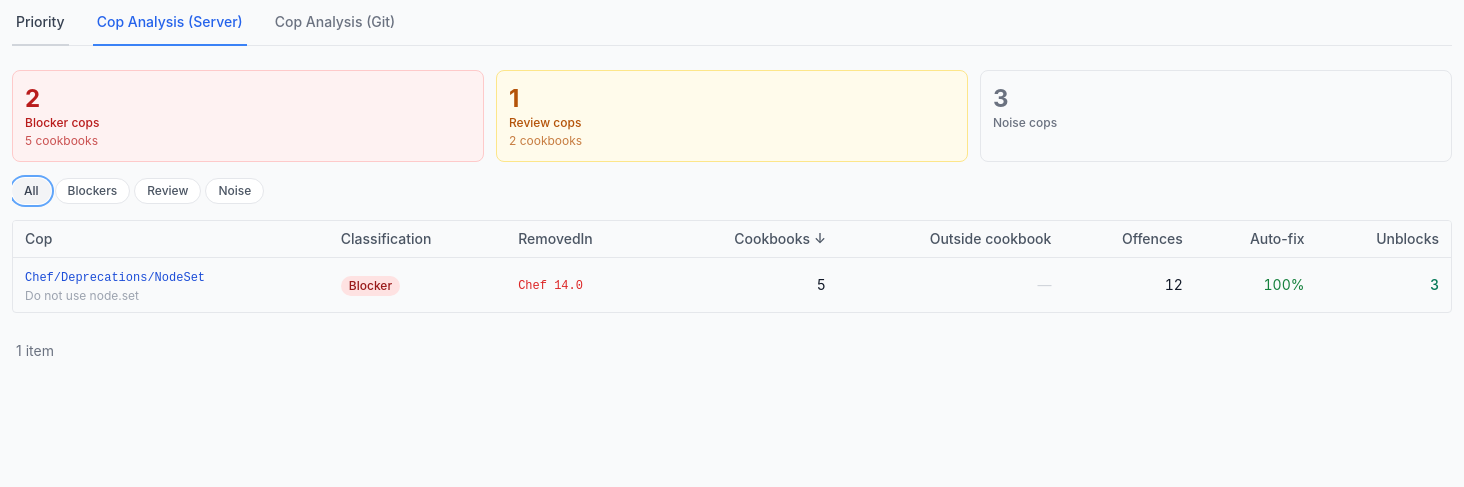
RemediationPage tabs › switching back to Priority tab shows priority content
Expected: the button "Chef/Deprecations/NodeSet" is shown, [25, 270, 205, 286]
Click the button "Priority". click: (40, 29)
box: [12, 12, 69, 46]
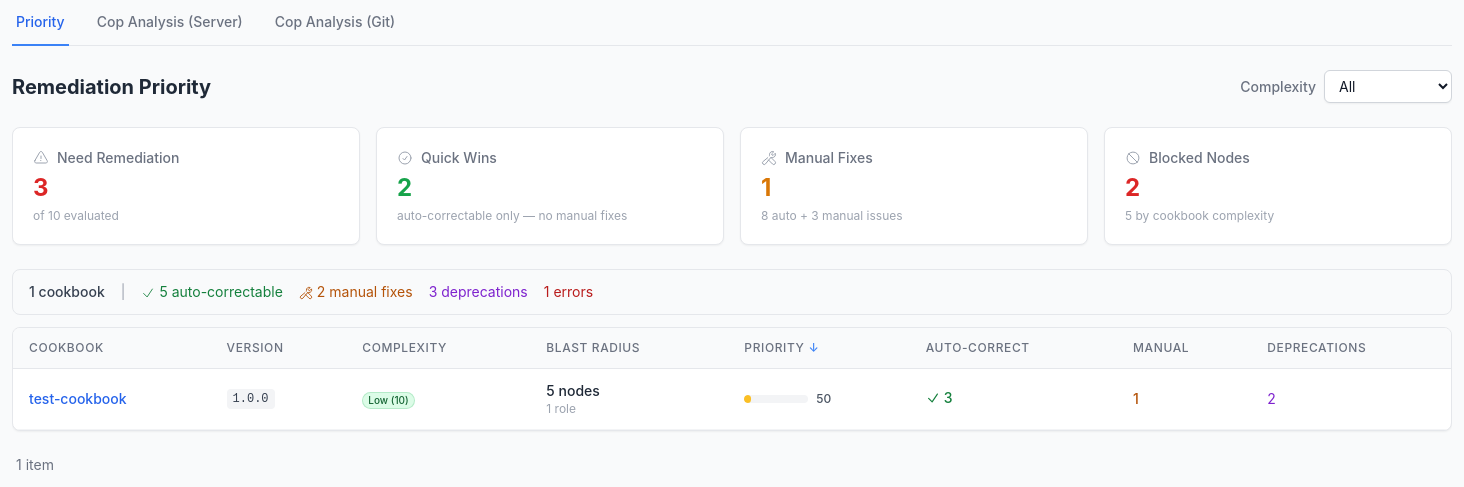
Result: the heading "Remediation Priority" is shown at [12, 72, 211, 100]
